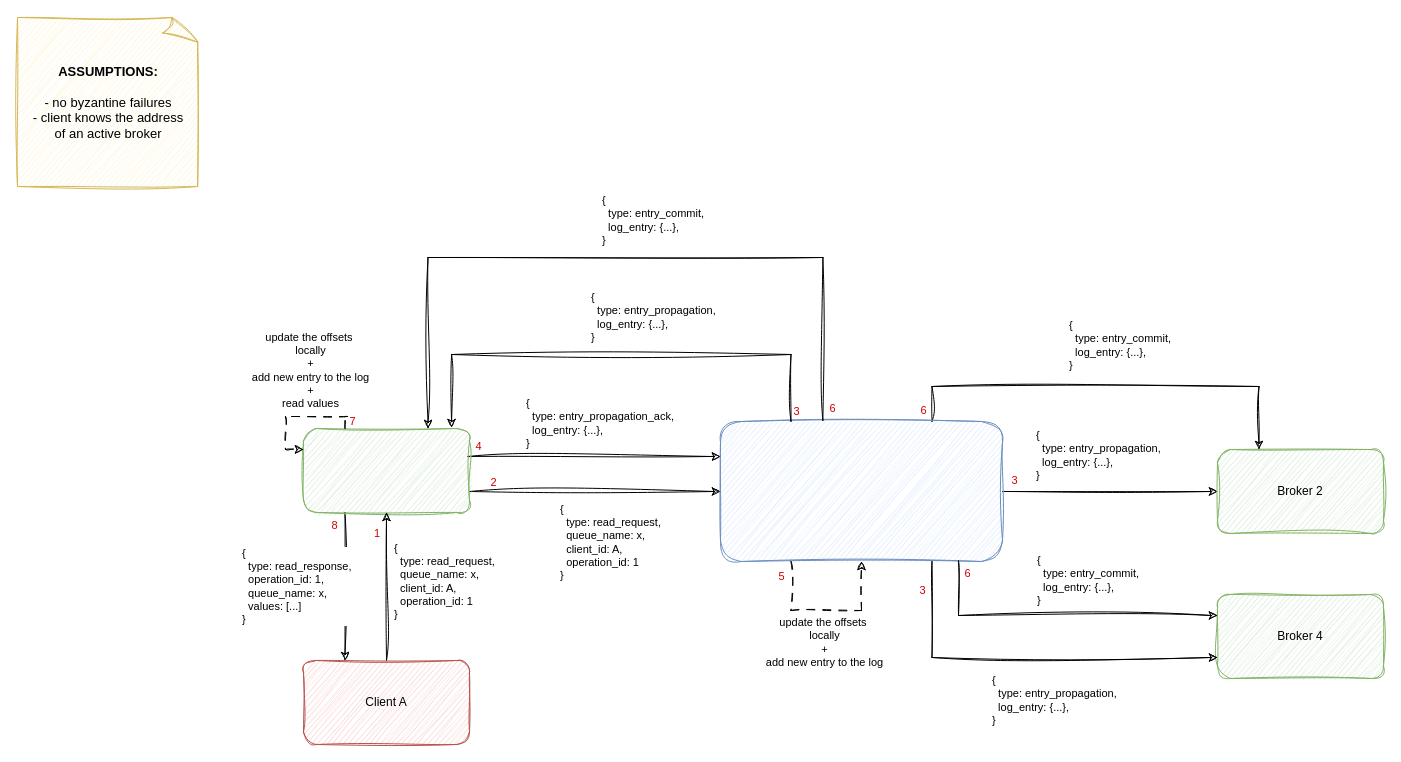
The diagram is 1401 pixels wide and 762 high, and some of its shapes have lost their labels. The shapes that lost their labels are listed below. From the top down, each one's centre as x and y in pixels, then its label:
the point at 386,470: Broker 3
the point at 861,491: Broker 1 [leader]
